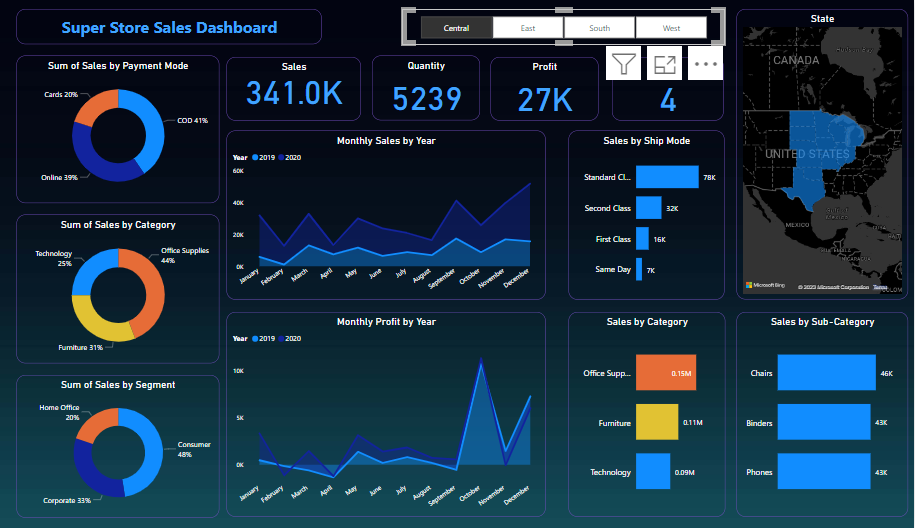

This screenshot's page, from the dashboard's own definition file:
{"tool":"powerbi","page":{"name":"Page 1","canvas":[1522,880],"ordinal":0},"visuals":[{"type":"clusteredBarChart","title":"Sales by Category","fields":{"Category":["SuperStore_Sales_Dataset (2).Category"],"Y":["Sum(SuperStore_Sales_Dataset (2).Sales)"]},"box":[946.2,520,261.2,341.2],"z":0},{"type":"clusteredBarChart","title":"Sales by Sub-Category","fields":{"Y":["Sum(SuperStore_Sales_Dataset (2).Sales)"],"Category":["SuperStore_Sales_Dataset (2).Sub-Category"]},"box":[1226.2,520,286.2,341.2],"z":1000},{"type":"clusteredBarChart","title":"Sales by Ship Mode","fields":{"Y":["Sum(SuperStore_Sales_Dataset (2).Sales)"],"Category":["SuperStore_Sales_Dataset (2).Ship Mode"]},"box":[946.7,216.7,260,281.7],"z":2000},{"type":"stackedAreaChart","title":"Monthly Sales by Year","fields":{"Y":["Sum(SuperStore_Sales_Dataset (2).Sales)"],"Series":["SuperStore_Sales_Dataset (2).Order Date.Variation.Date Hierarchy.Year"],"Category":["SuperStore_Sales_Dataset (2).Order Date.Variation.Date Hierarchy.Month","SuperStore_Sales_Dataset (2).Order Date.Variation.Date Hierarchy.Day"]},"box":[378.3,216.7,531.7,281.7],"z":3000},{"type":"stackedAreaChart","title":"Monthly Profit by Year","fields":{"Series":["SuperStore_Sales_Dataset (2).Order Date.Variation.Date Hierarchy.Year"],"Category":["SuperStore_Sales_Dataset (2).Order Date.Variation.Date Hierarchy.Month","SuperStore_Sales_Dataset (2).Order Date.Variation.Date Hierarchy.Day"],"Y":["Sum(SuperStore_Sales_Dataset (2).Profit)"]},"box":[378.6,519.6,532.1,341.1],"z":4000},{"type":"filledMap","fields":{"Category":["SuperStore_Sales_Dataset (2).State"]},"box":[1226.8,14.3,285.7,483.9],"z":5000},{"type":"donutChart","fields":{"Category":["SuperStore_Sales_Dataset (2).Segment"],"Y":["Sum(SuperStore_Sales_Dataset (2).Sales)"]},"box":[28,624,338,238],"z":6000},{"type":"slicer","fields":{"Values":["SuperStore_Sales_Dataset (2).Region"]},"box":[670,15,537.5,60],"z":8000},{"type":"textbox","box":[26.2,15,508.8,58.8],"z":9000},{"type":"card","title":"Sales","fields":{"Values":["Sum(SuperStore_Sales_Dataset (2).Sales)"]},"box":[378,94,224,106],"z":10000},{"type":"card","title":"Quantity","fields":{"Values":["Sum(SuperStore_Sales_Dataset (2).Quantity)"]},"box":[620,92,180,108],"z":11000},{"type":"card","title":"Profit","fields":{"Values":["Sum(SuperStore_Sales_Dataset (2).Profit)"]},"box":[818,94,180,106],"z":12000},{"type":"card","title":"Sales","fields":{"Values":["Avg(SuperStore_Sales_Dataset (2).AvgDelivery)"]},"box":[1020,94,186,106],"z":13000},{"type":"donutChart","fields":{"Category":["SuperStore_Sales_Dataset (2).Payment Mode"],"Y":["Sum(SuperStore_Sales_Dataset (2).Sales)"]},"box":[28,92,338,246],"z":13001},{"type":"donutChart","fields":{"Y":["Sum(SuperStore_Sales_Dataset (2).Sales)"],"Category":["SuperStore_Sales_Dataset (2).Category"]},"box":[28,358,338,248],"z":13002}]}

Visuals, with their boxes in screenshot pixels (x1, y1, x2, y2), scaled from the page's 1522x880 canvas onto the 915x528 screenshot:
"Sales by Category" clusteredBarChart: x1=569 y1=312 x2=726 y2=517
"Sales by Sub-Category" clusteredBarChart: x1=737 y1=312 x2=909 y2=517
"Sales by Ship Mode" clusteredBarChart: x1=569 y1=130 x2=725 y2=299
"Monthly Sales by Year" stackedAreaChart: x1=227 y1=130 x2=547 y2=299
"Monthly Profit by Year" stackedAreaChart: x1=228 y1=312 x2=547 y2=516
filledMap - SuperStore_Sales_Dataset (2).State: x1=738 y1=9 x2=909 y2=299
donutChart - SuperStore_Sales_Dataset (2).Segment x Sum(SuperStore_Sales_Dataset (2).Sales): x1=17 y1=374 x2=220 y2=517
slicer - SuperStore_Sales_Dataset (2).Region: x1=403 y1=9 x2=726 y2=45
textbox: x1=16 y1=9 x2=322 y2=44
"Sales" card: x1=227 y1=56 x2=362 y2=120
"Quantity" card: x1=373 y1=55 x2=481 y2=120
"Profit" card: x1=492 y1=56 x2=600 y2=120
"Sales" card: x1=613 y1=56 x2=725 y2=120
donutChart - SuperStore_Sales_Dataset (2).Payment Mode x Sum(SuperStore_Sales_Dataset (2).Sales): x1=17 y1=55 x2=220 y2=203
donutChart - Sum(SuperStore_Sales_Dataset (2).Sales) x SuperStore_Sales_Dataset (2).Category: x1=17 y1=215 x2=220 y2=364
